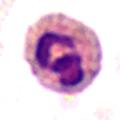eosi: (22, 12, 104, 97)
